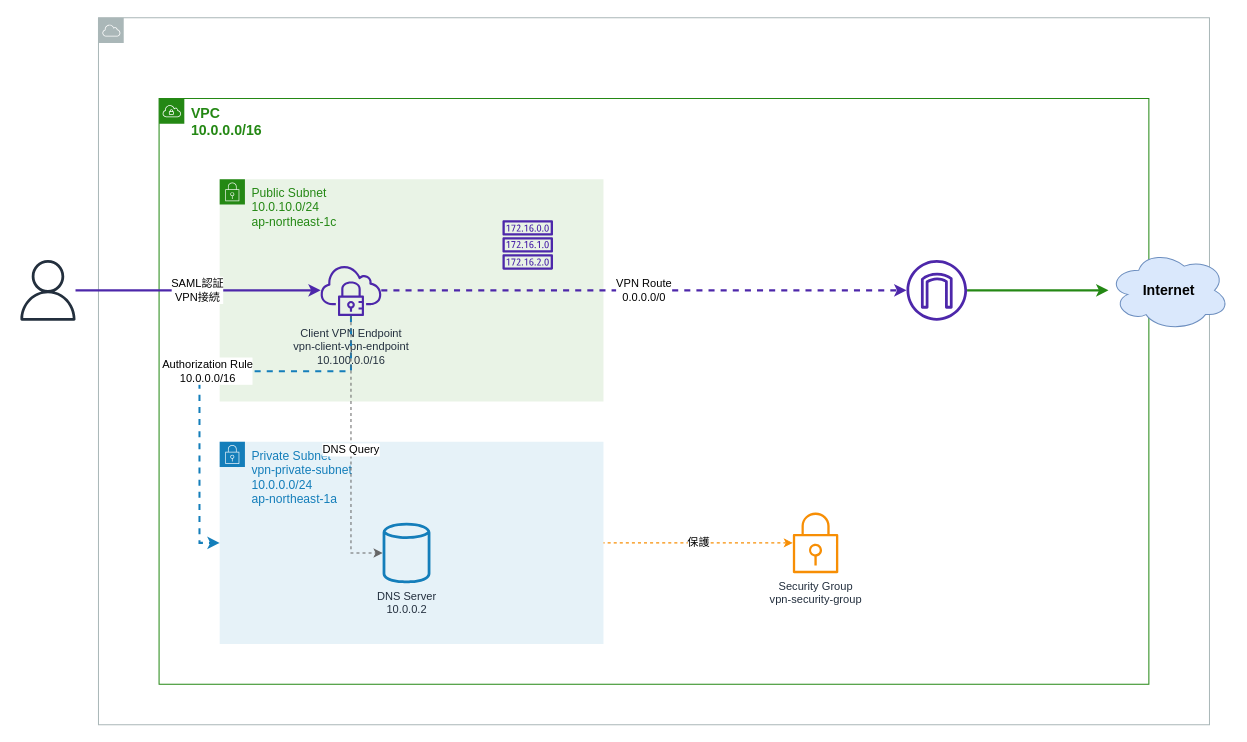
The diagram is 1247 pixels wide and 742 high, and some of its shapes have lost their labels. The centre of each missing label's shape, as x and y in pixels:
"Internet Gateway vpn-internet-gateway" goes at (936,290).
"Route Table (Public) 0.0.0.0/0 → IGW" goes at (527,244).
"VPN Client" goes at (47,290).
